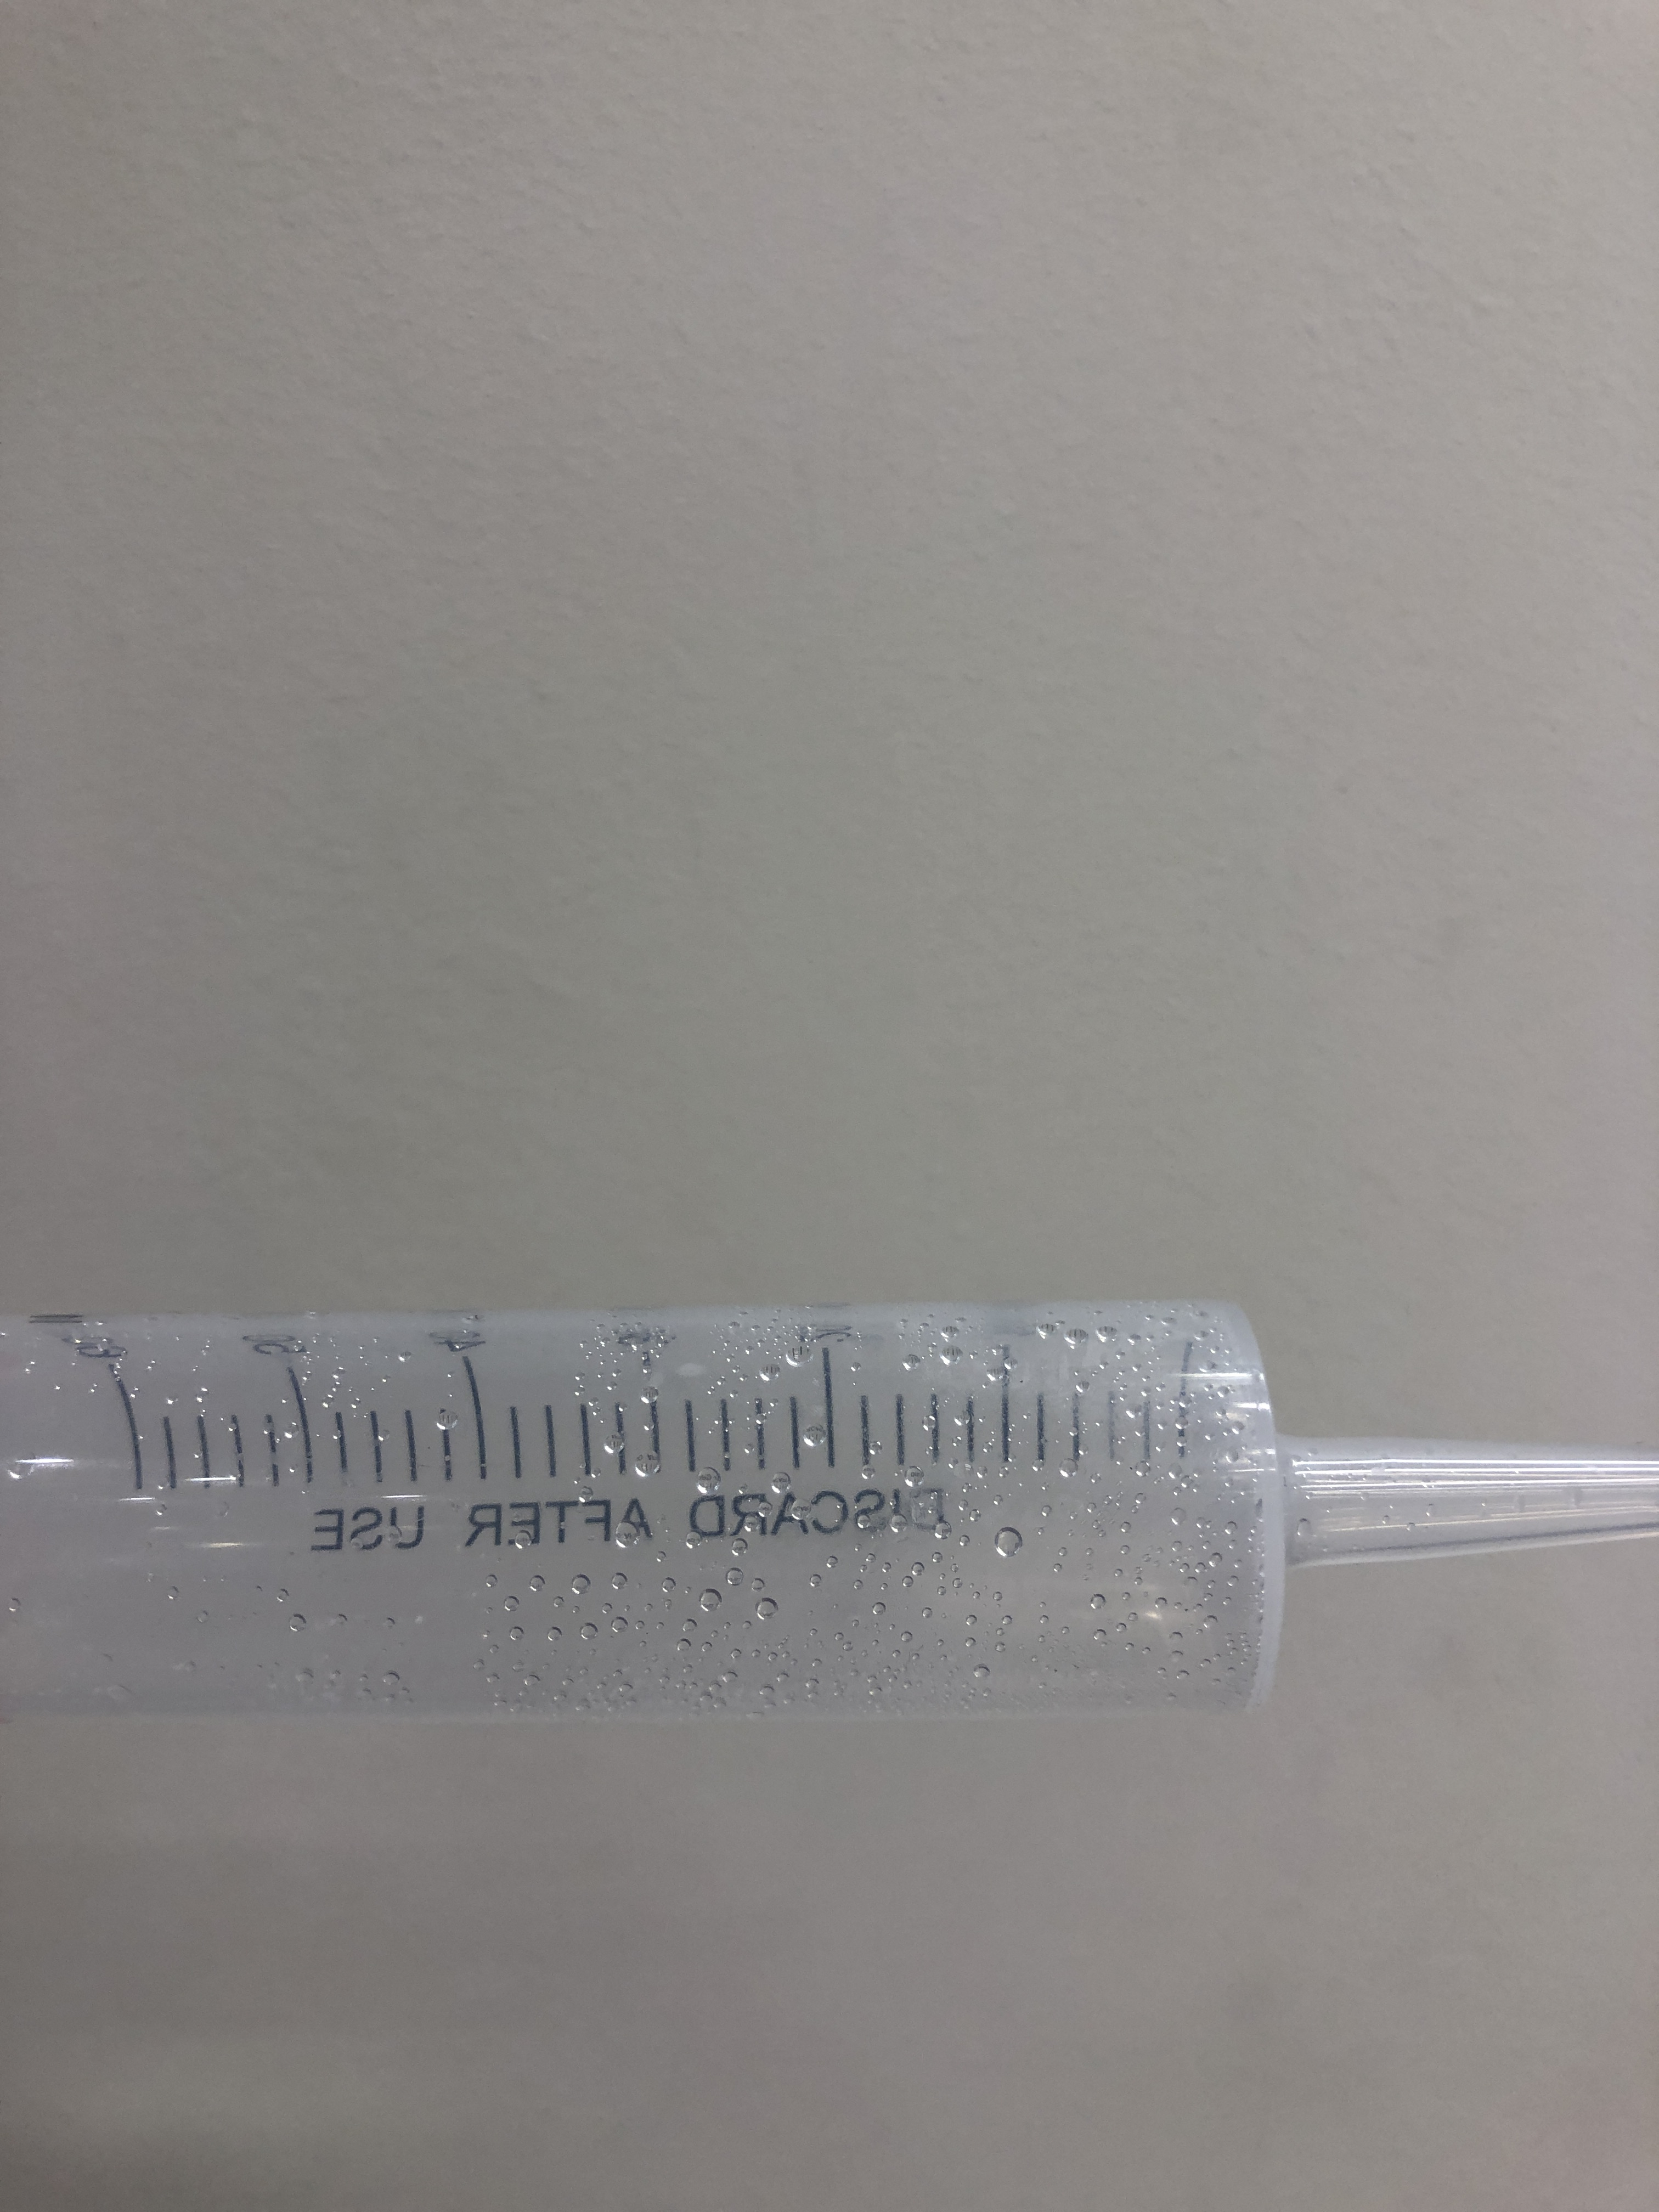syringe: (9, 1296, 1656, 1716)
